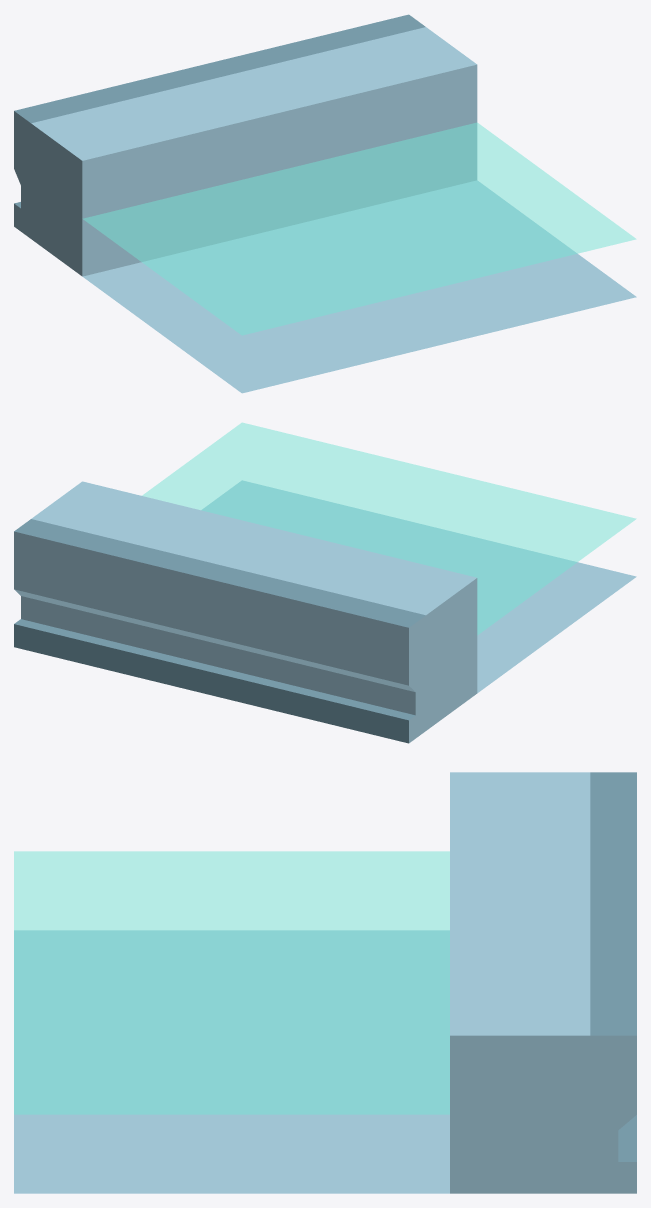
File: fountainEdge.glb
3 views of the same model, one above another, from view 1: azimuth 30°, elevation 25°; view 2: azimuth 150°, elevation 25°; view 3: azimuth 270°, elevation 25° (orthographic). The views are drawn at different scales.
Parts seen in each view (by area): view 1: fountainEdge; view 2: fountainEdge; view 3: fountainEdge.
Part boxes in pixels (bbox=[...]): fountainEdge: bbox=[14, 14, 636, 393]; fountainEdge: bbox=[14, 422, 636, 743]; fountainEdge: bbox=[14, 772, 636, 1193].
Size of the model in its own units: 3 by 0.84 by 3.
